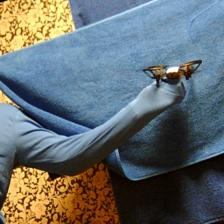drone: (144, 59, 203, 83)
